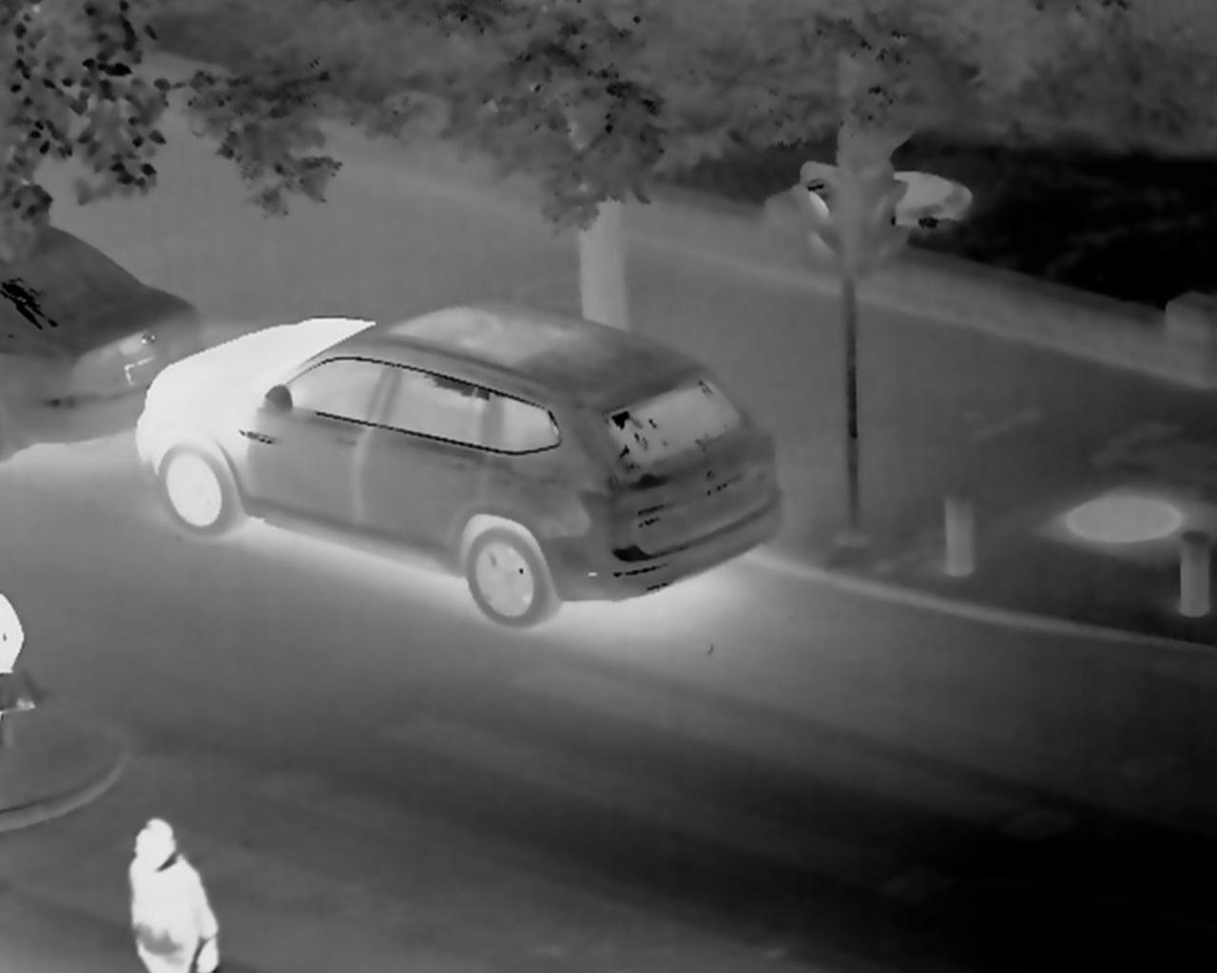person: (129, 783, 280, 973)
